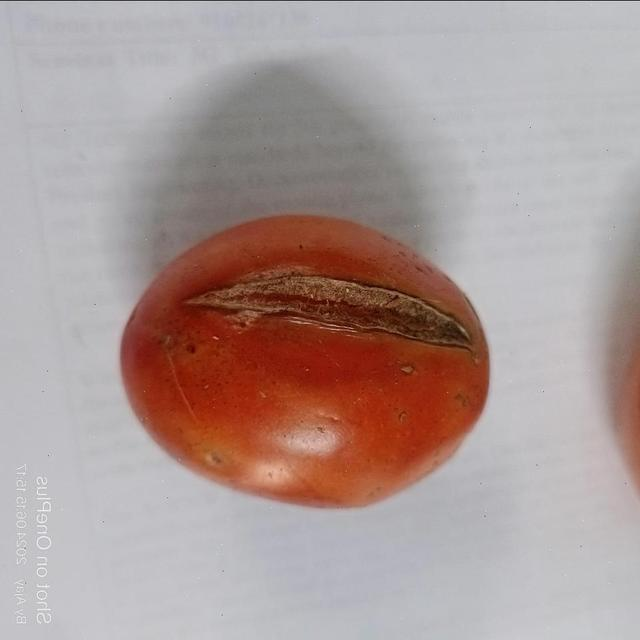Cracking Fruit: (72, 102, 387, 334)
